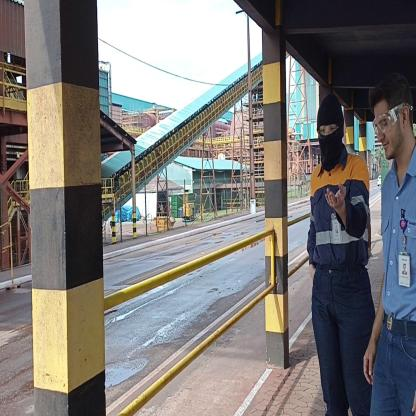Balaclava: (315, 90, 344, 166)
Operacional: (308, 162, 370, 264)
